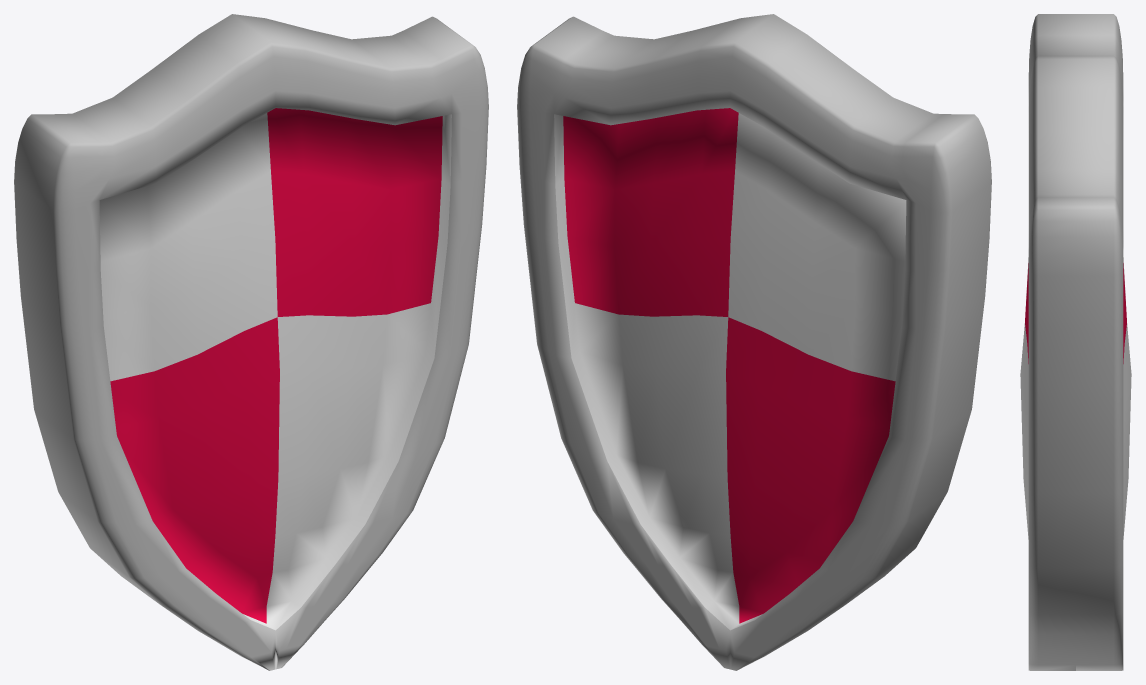
File: shield.fbx
3 views of the same model, side by side, from view 1: azimuth 30°, elevation 25°; view 2: azimuth 150°, elevation 25°; view 3: azimuth 270°, elevation 25° (orthographic). The views are drawn at different scales.
Parts seen in each view (by area): view 1: shield; view 2: shield; view 3: shield.
Boxes of the visible parts, bbox=[...] form: shield: bbox=[14, 14, 488, 670]; shield: bbox=[517, 14, 991, 670]; shield: bbox=[1020, 14, 1131, 670].
Size of the model in its own units: 70.49 by 96.57 by 15.99.
